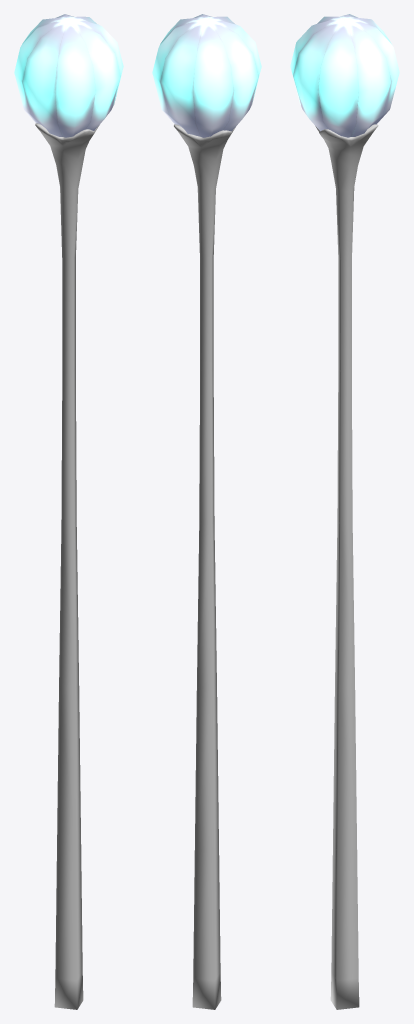
The model's file is GlowbushBud_1.fbx.
The picture shows the model from 3 angles, left to right: view 1: azimuth 30°, elevation 25°; view 2: azimuth 210°, elevation 25°; view 3: azimuth 330°, elevation 25°; orthographic projection.
Visible parts, largest first — view 1: Glowbush_Bud1; view 2: Glowbush_Bud1; view 3: Glowbush_Bud1.
Part boxes in pixels (x1,y1,x2,y2): Glowbush_Bud1: (14,14,123,1009); Glowbush_Bud1: (152,14,261,1009); Glowbush_Bud1: (290,14,399,1009).
Size of the model in its own units: 17.35 by 175 by 17.34.
